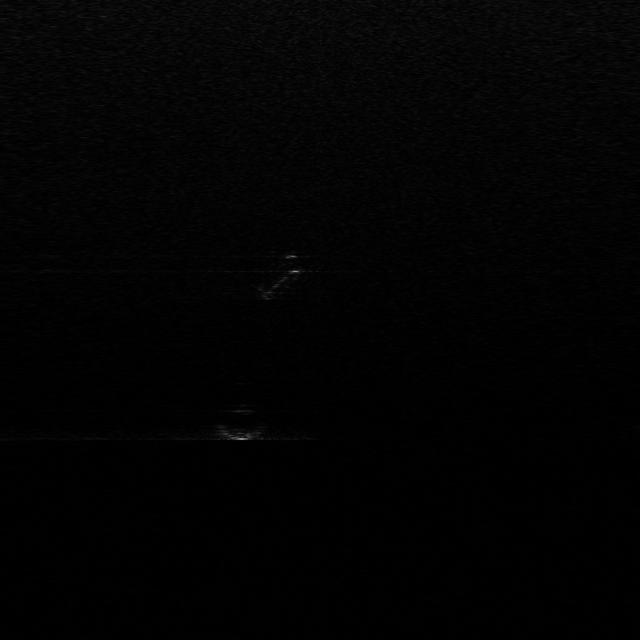ball: (216, 404, 270, 442)
tyre: (257, 259, 304, 300)
